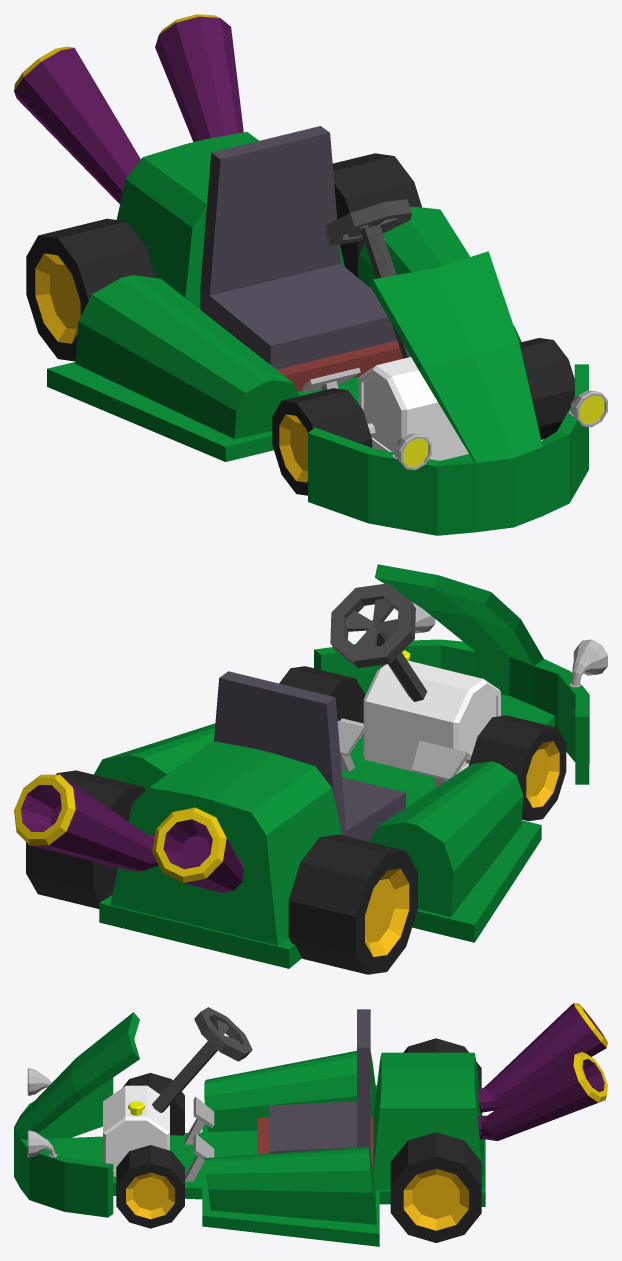
Rendered from GreenKart.fbx.
The picture shows the model from 3 angles, top to bottom: view 1: azimuth 30°, elevation 25°; view 2: azimuth 150°, elevation 25°; view 3: azimuth 270°, elevation 25°; orthographic projection. The views are drawn at different scales.
Visible parts, largest first — view 1: KartPlataform1, Hood1, Chair1, Wheels1, Catalysts1, SteeringWheel1, Lights_Kart1, Pedals1; view 2: KartPlataform1, Wheels1, Hood1, Catalysts1, Chair1, SteeringWheel1, Pedals1, Lights_Kart1; view 3: KartPlataform1, Wheels1, Hood1, Catalysts1, Chair1, SteeringWheel1, Pedals1, Lights_Kart1.
Boxes of the visible parts, x1=… form: KartPlataform1: x1=47, y1=132, x2=521, y2=461; Hood1: x1=308, y1=251, x2=588, y2=535; Chair1: x1=200, y1=126, x2=403, y2=391; Wheels1: x1=26, y1=153, x2=574, y2=495; Catalysts1: x1=14, y1=14, x2=243, y2=203; SteeringWheel1: x1=324, y1=199, x2=411, y2=358; Lights_Kart1: x1=392, y1=390, x2=607, y2=470; Pedals1: x1=302, y1=367, x2=360, y2=392; KartPlataform1: x1=94, y1=650, x2=554, y2=968; Wheels1: x1=26, y1=666, x2=566, y2=974; Hood1: x1=314, y1=564, x2=589, y2=784; Catalysts1: x1=14, y1=774, x2=243, y2=892; Chair1: x1=214, y1=671, x2=405, y2=841; SteeringWheel1: x1=330, y1=583, x2=427, y2=701; Pedals1: x1=337, y1=720, x2=468, y2=787; Lights_Kart1: x1=412, y1=602, x2=607, y2=687; KartPlataform1: x1=45, y1=1050, x2=485, y2=1246; Wheels1: x1=116, y1=1038, x2=481, y2=1242; Hood1: x1=14, y1=1012, x2=139, y2=1217; Catalysts1: x1=478, y1=1003, x2=607, y2=1140; Chair1: x1=257, y1=1009, x2=373, y2=1172; SteeringWheel1: x1=152, y1=1007, x2=252, y2=1112; Pedals1: x1=184, y1=1097, x2=214, y2=1181; Lights_Kart1: x1=27, y1=1068, x2=57, y2=1157.
Bounding box in the file's own units: 1053 × 562 × 1774.
